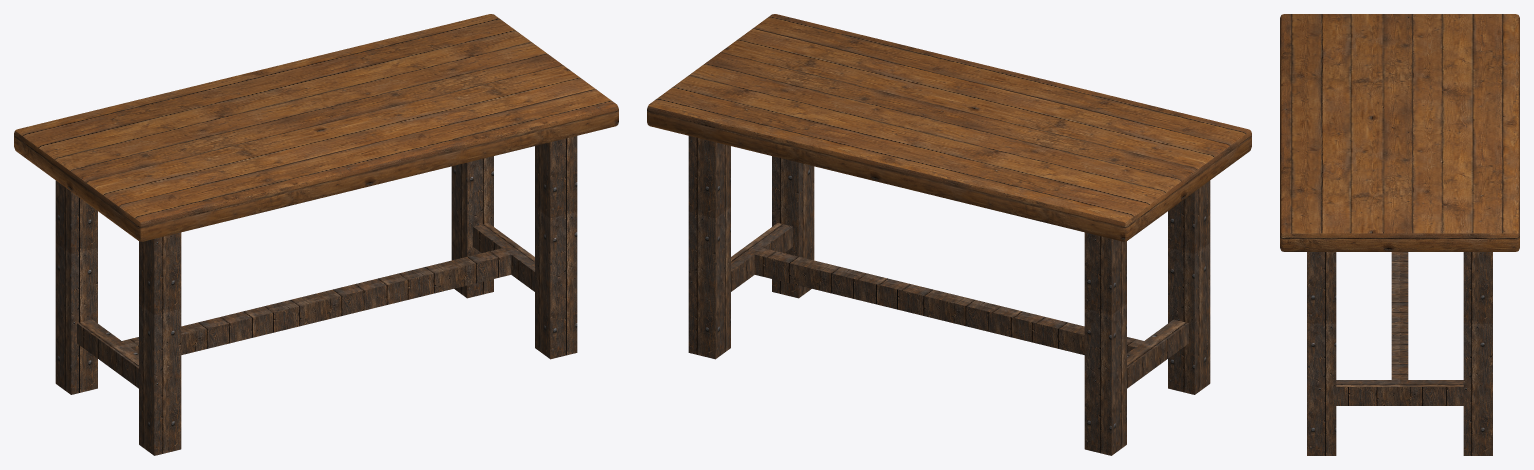
File: table-v01.glb
3 renders of one model, left to right at view 1: azimuth 30°, elevation 25°; view 2: azimuth 150°, elevation 25°; view 3: azimuth 270°, elevation 25°, orthographic. The views are drawn at different scales.
Parts seen in each view (by area): view 1: table; view 2: table; view 3: table.
Boxes of the visible parts, x1,y1,x2,y2 form: table: [14, 14, 618, 455]; table: [647, 14, 1251, 455]; table: [1280, 14, 1519, 455].
Size of the model in its own units: 2.5 by 1.25 by 1.15.
2 materials, 2 textured.
